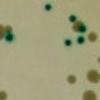Blue_green: (75, 35, 87, 47), (61, 35, 72, 47), (5, 32, 16, 43), (43, 2, 54, 13), (77, 23, 88, 34), (67, 13, 77, 23)
brown: (86, 68, 98, 85), (82, 88, 97, 100), (72, 20, 83, 33), (66, 73, 77, 85), (88, 30, 98, 43), (3, 23, 15, 33), (0, 89, 10, 100), (0, 24, 5, 41), (96, 57, 100, 63)
